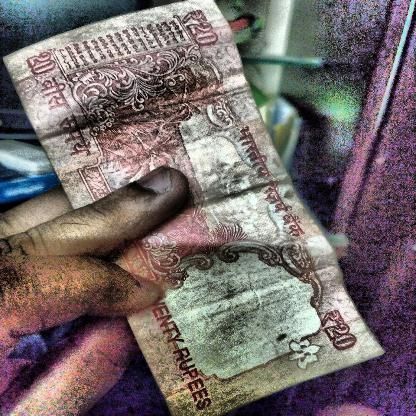Rs20: (171, 4, 227, 55), (313, 306, 366, 356), (18, 48, 64, 80)
